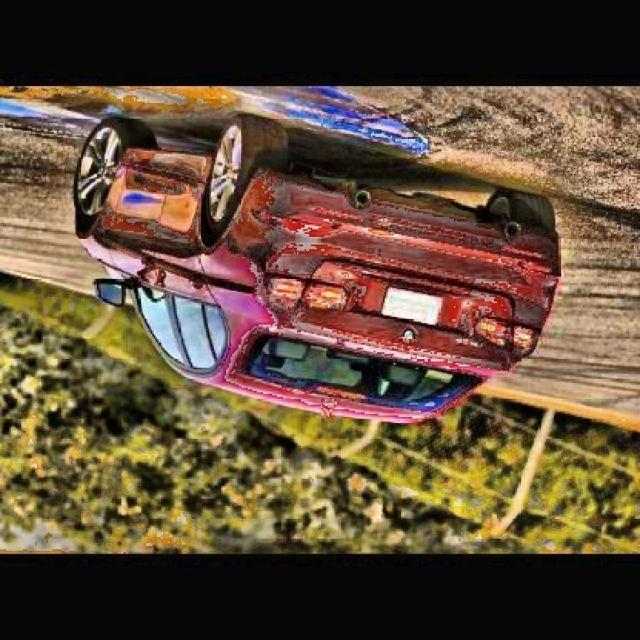maroon: (68, 161, 562, 416)
